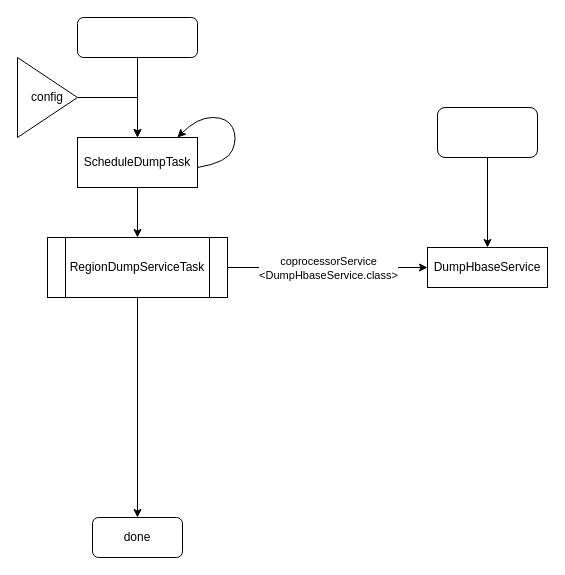
The diagram is 565 pixels wide and 575 high, and some of its shapes have lost their labels. Each missing label, with the centre of its shape:
"DumpHbaseTrigger 开始" belongs at (x=137, y=37).
"Hbase 开始" belongs at (x=487, y=132).
